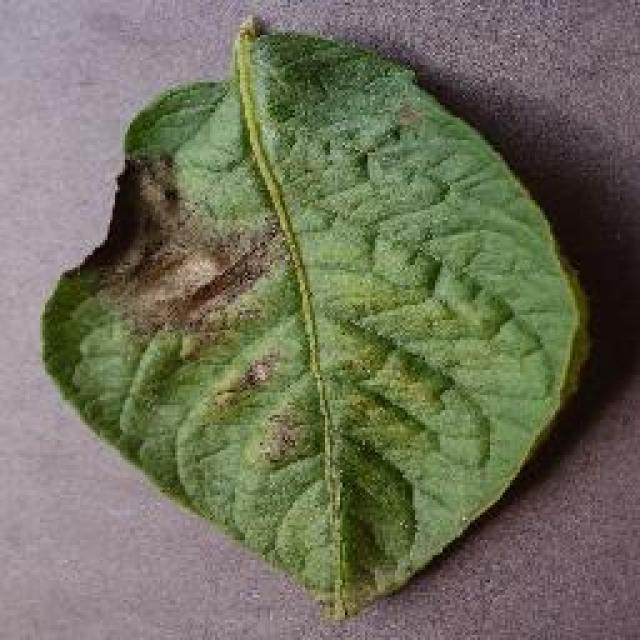Potato___Late_blight: (39, 14, 595, 626)
